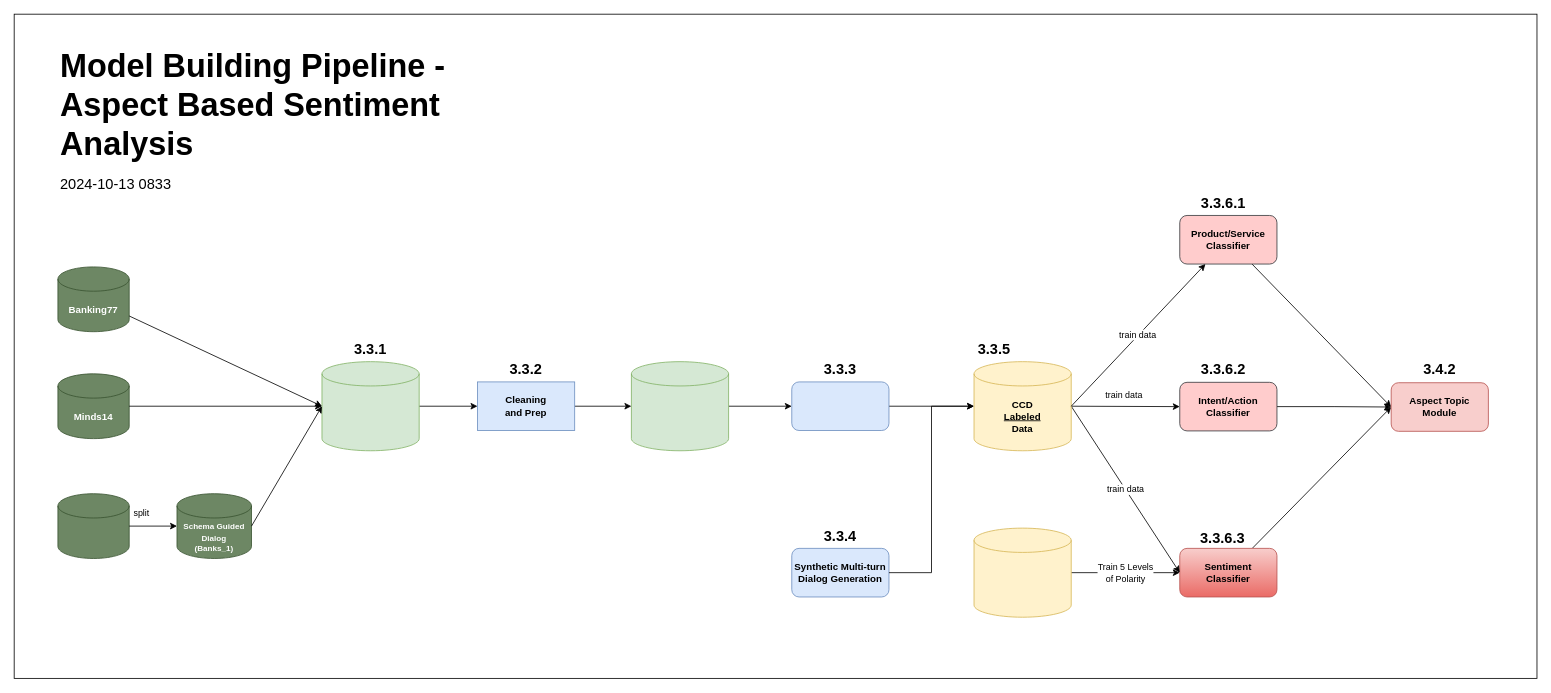
This 1551x693 diagram has some shape labels left out. The box of each missing label's shape, as (x1, y1, x2, y2) in pixels:
Call Center Dialog Data - CCD Unlabeled: (321, 361, 419, 451)
CCD Unlabeled: (631, 361, 729, 451)
LLM Automated Data Labeling: (791, 381, 889, 431)
Schema Guided Dialog: (57, 493, 129, 558)
Stanford Sentiment Treebank-5 Labeled: (973, 527, 1071, 617)
